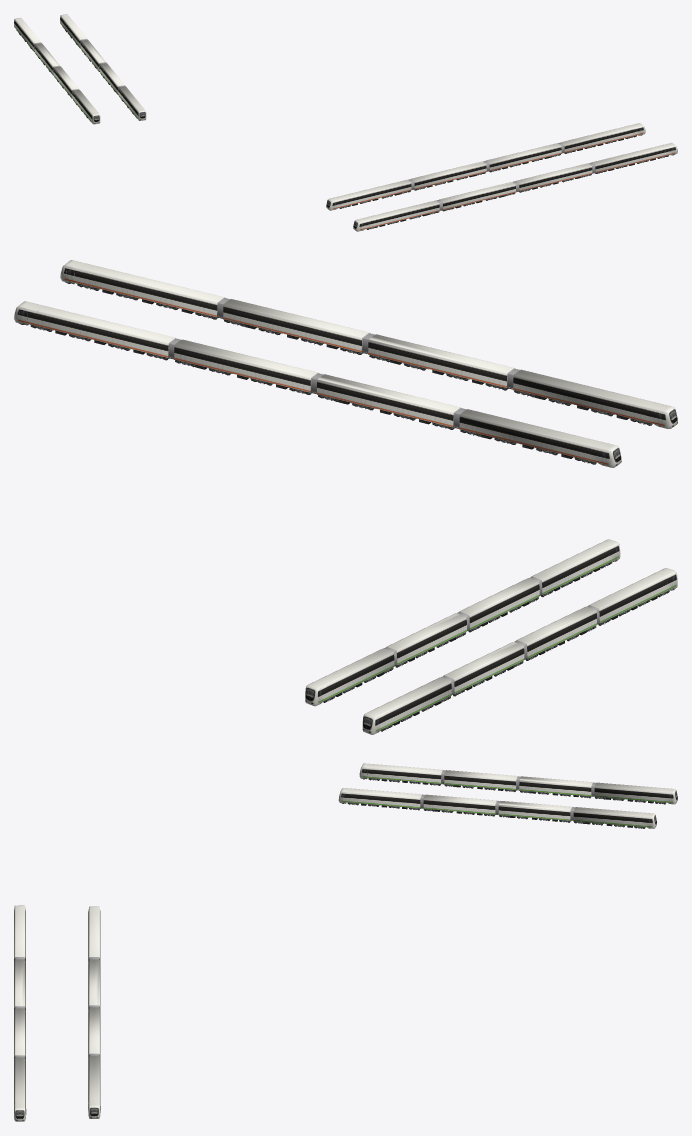
The model's file is dfzmMetroDraco-opt.glb.
3 renders of one model, top to bottom at view 1: azimuth 30°, elevation 25°; view 2: azimuth 150°, elevation 25°; view 3: azimuth 270°, elevation 25°, orthographic. The views are drawn at different scales.
Visible parts, largest first — view 1: line3-platform-metro-toWeiTing, line1-platform-metro-toZhongNanJie; view 2: line3-platform-metro-toWeiTing, line1-platform-metro-toZhongNanJie; view 3: line1-platform-metro-toZhongNanJie, line3-platform-metro-toWeiTing.
Part boxes in pixels (<box>): line3-platform-metro-toWeiTing: <box>34,39,677,231</box>; line1-platform-metro-toZhongNanJie: <box>14,14,146,124</box>; line3-platform-metro-toWeiTing: <box>14,260,677,694</box>; line1-platform-metro-toZhongNanJie: <box>305,539,677,734</box>; line1-platform-metro-toZhongNanJie: <box>338,763,677,828</box>; line3-platform-metro-toWeiTing: <box>14,770,595,1121</box>.
Bounding box in the file's own units: 168 × 18.71 × 162.
Materials: 5 (4 with a texture image).
